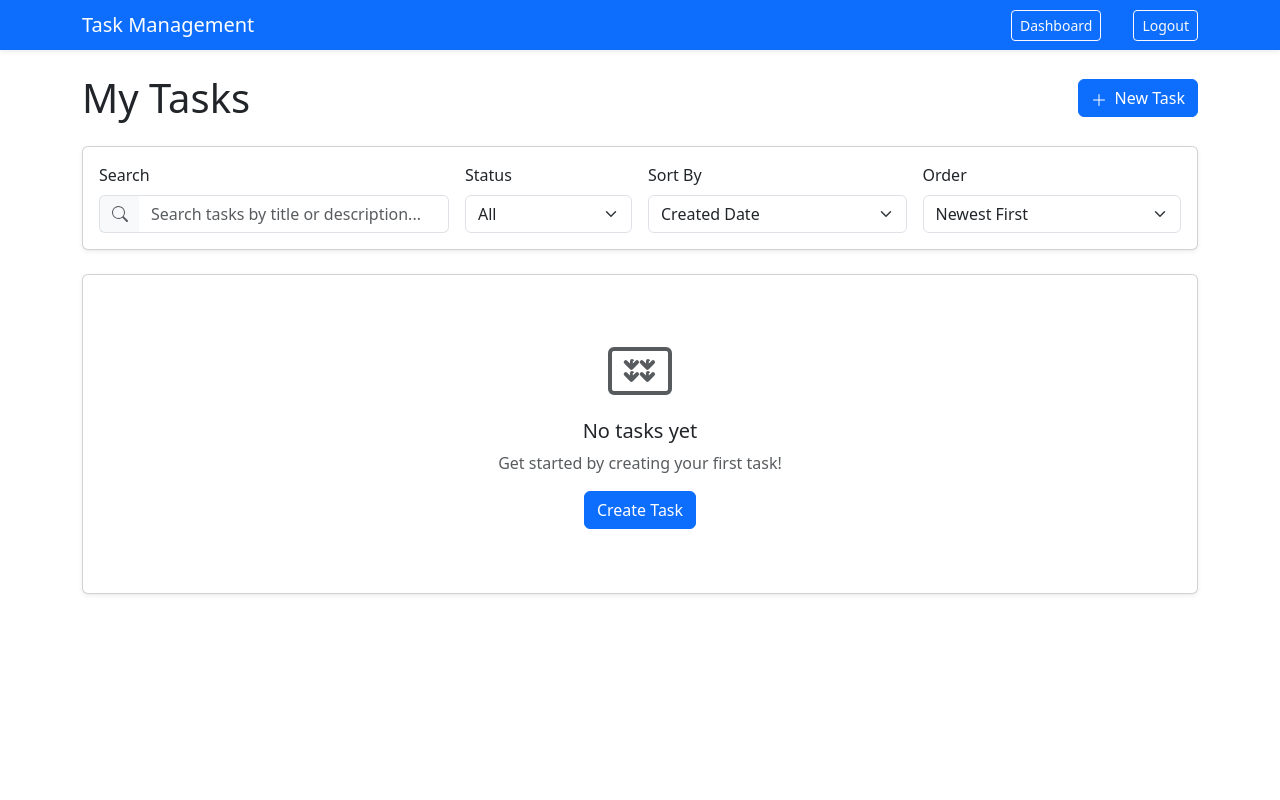
Test: TasksPage › should clear search when clear search button is clicked
The image size is (1280, 800).
Note: Search for something
Type "test" into the search field with placeholder "Search tasks by title or description...". click: [294, 214]
box: [139,195,449,233]
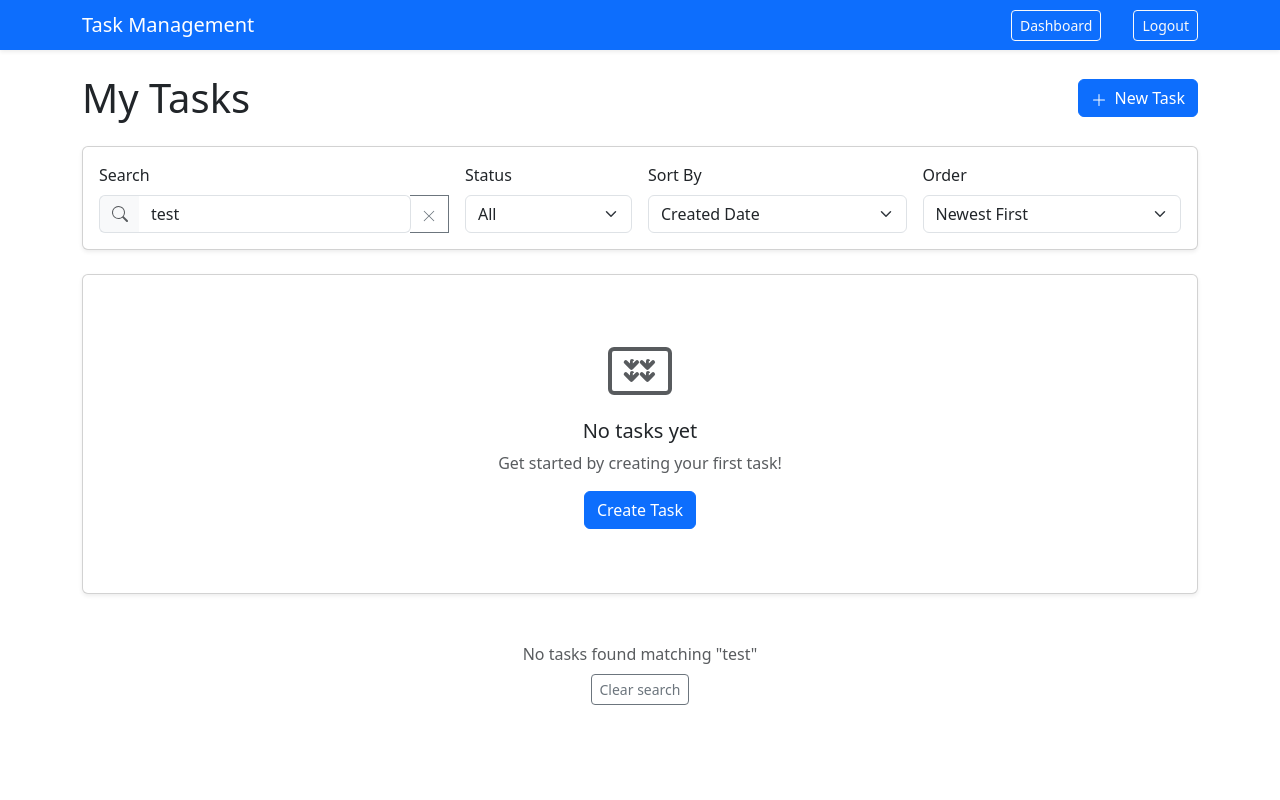
Expected: the button "Clear search" is shown
Note: Click clear search button
Click the button "Clear search". click: [640, 690]
box: [590,674,690,705]
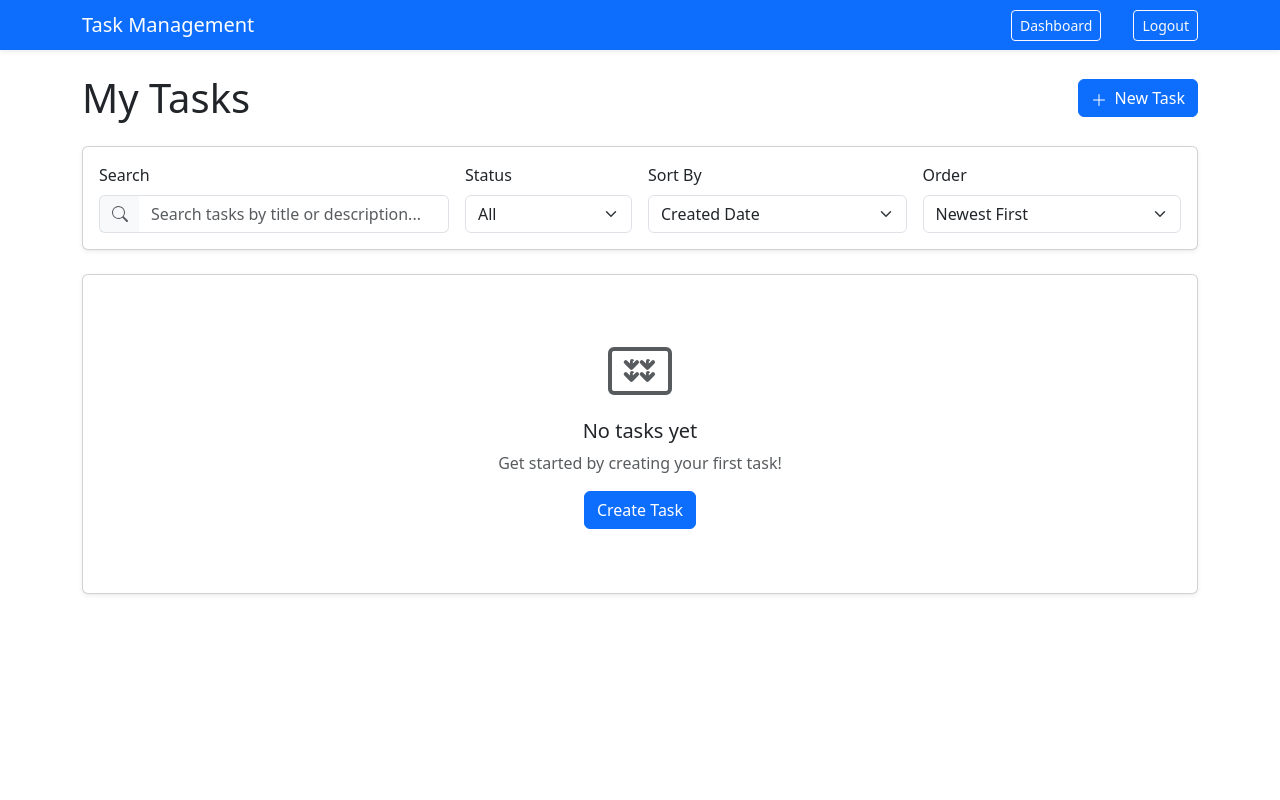
Expected: the search field with placeholder "Search tasks by title or description..." is empty, [139,195,449,233]
